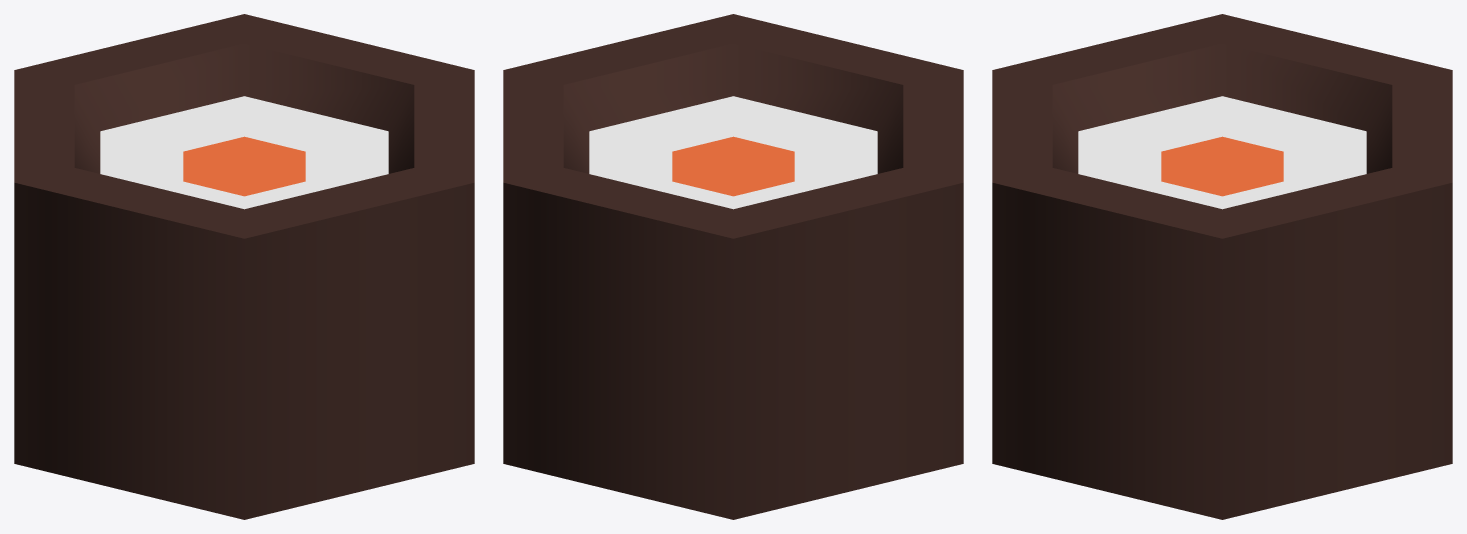
Rendered from makiSalmon.obj.
3 views of the same model, side by side, from view 1: azimuth 30°, elevation 25°; view 2: azimuth 150°, elevation 25°; view 3: azimuth 270°, elevation 25° (orthographic).
Visible parts, largest first — view 1: makiSalmon; view 2: makiSalmon; view 3: makiSalmon.
Part boxes in pixels (left/top/right/bottom): makiSalmon: left=14, top=14, right=474, bottom=519; makiSalmon: left=503, top=14, right=963, bottom=519; makiSalmon: left=992, top=14, right=1452, bottom=519.
Bounding box in the file's own units: 0.12 × 0.07 × 0.1039.
